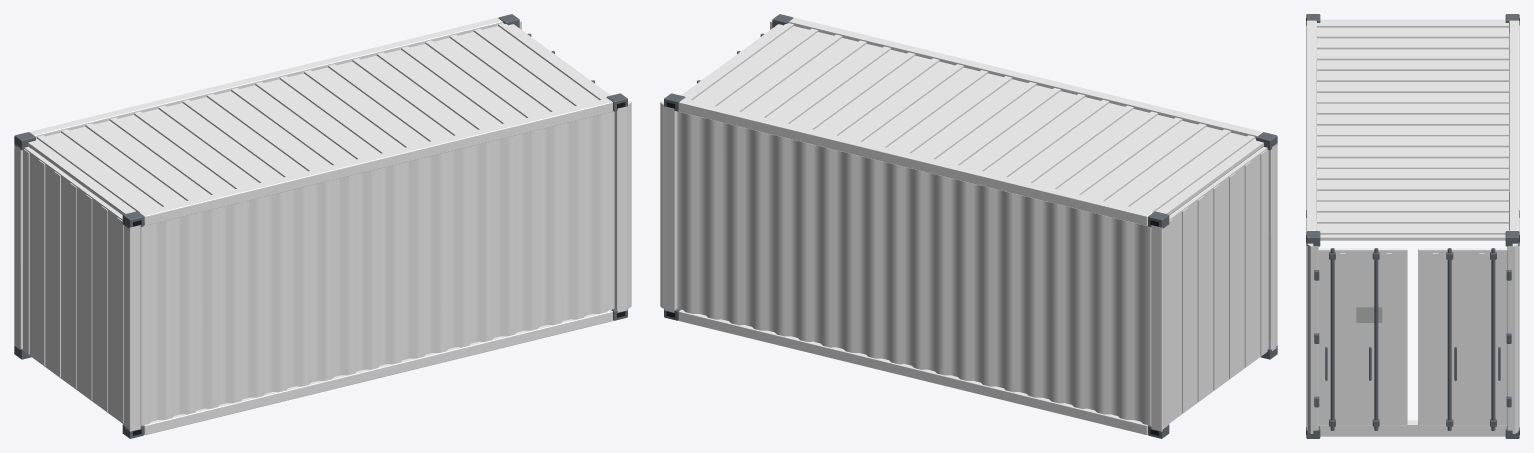
Rendered from container.glb.
The picture shows the model from 3 angles, left to right: view 1: azimuth 30°, elevation 25°; view 2: azimuth 150°, elevation 25°; view 3: azimuth 270°, elevation 25°; orthographic projection. The views are drawn at different scales.
Parts seen in each view (by area): view 1: container_paint, container_hardware; view 2: container_paint, container_hardware; view 3: container_paint, container_hardware.
Boxes of the visible parts, box(x1,y1,x2,y2) form: container_paint: box(14, 17, 631, 435); container_hardware: box(14, 14, 627, 438); container_paint: box(660, 17, 1277, 435); container_hardware: box(664, 14, 1277, 438); container_paint: box(1306, 19, 1519, 436); container_hardware: box(1306, 14, 1519, 438).
Size of the model in its own units: 6.14 by 2.55 by 2.45.
Materials: 1 (1 with a texture image).
